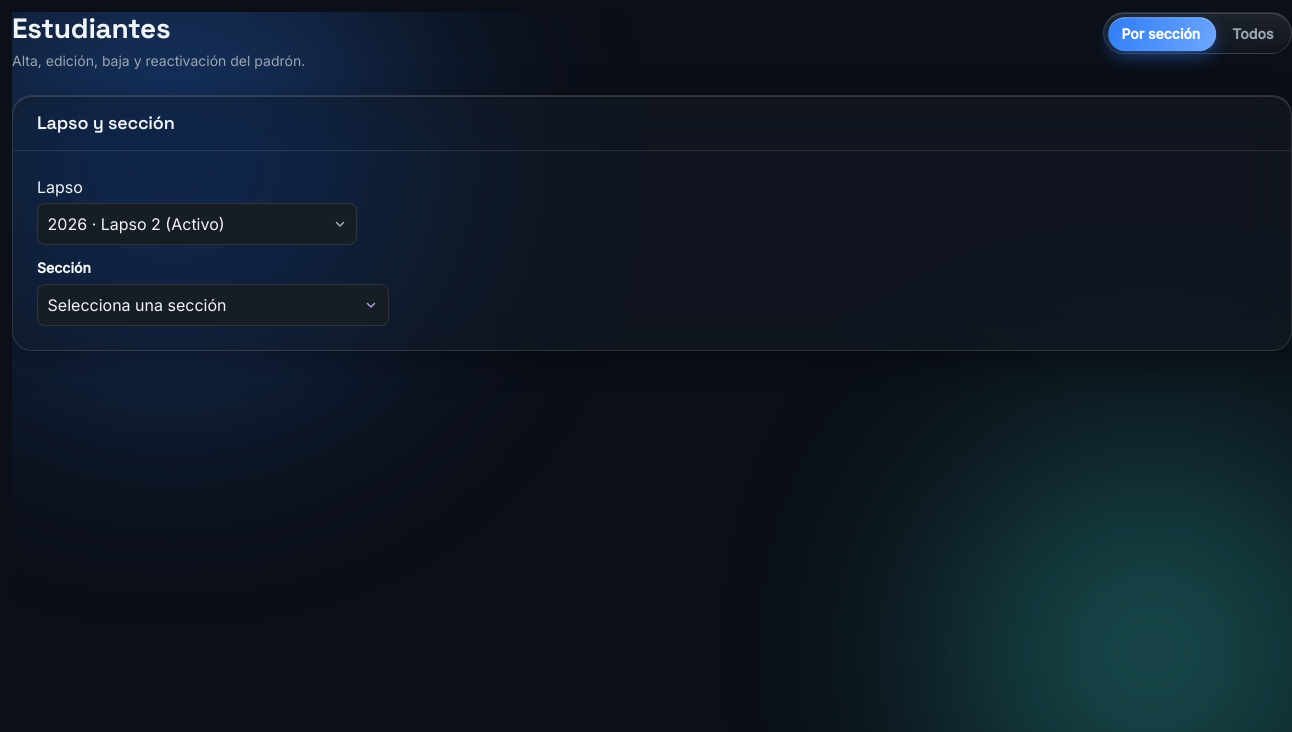
Test: EstudiantesPage › distingue el vacío del buscador del de padrón vacío
Click the button "Todos": coordinates (1253, 33) x1=1218 y1=16 x2=1288 y2=50
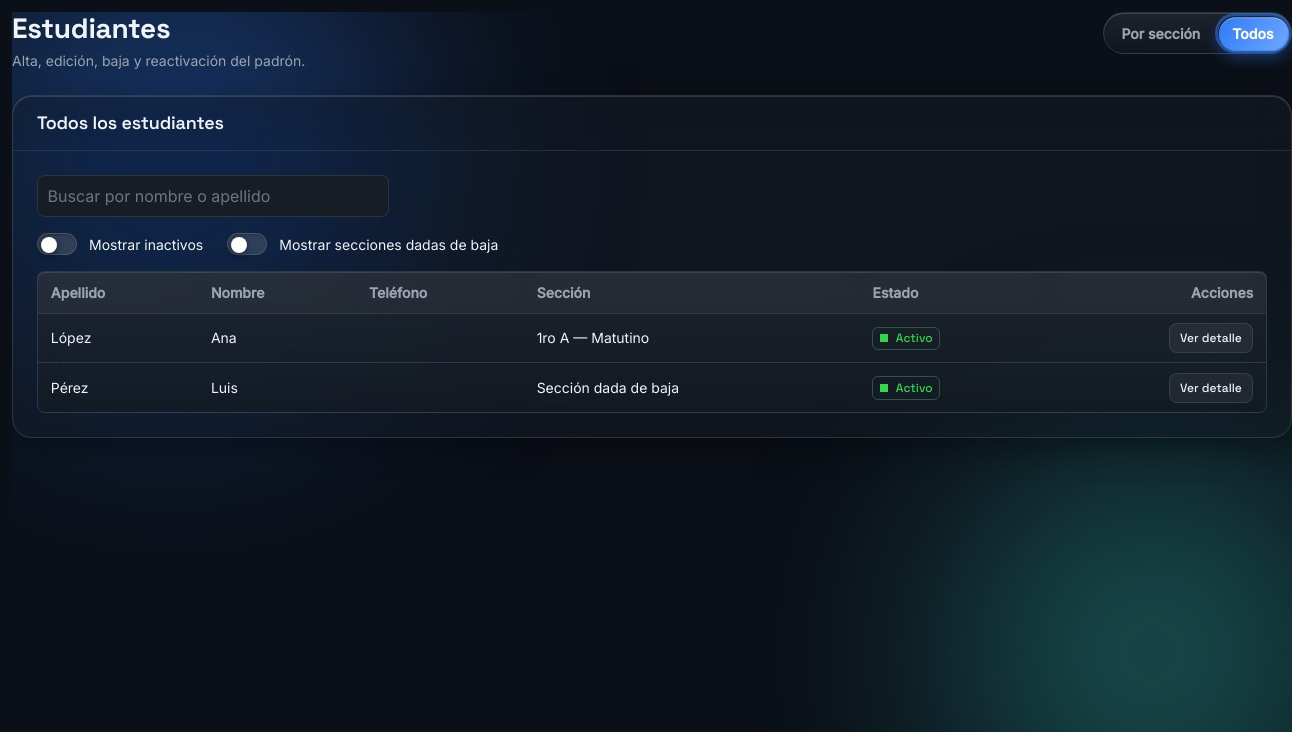
In the search field named "buscar-estudiante": coordinates (213, 196) x1=37 y1=175 x2=389 y2=217, type "zzz"
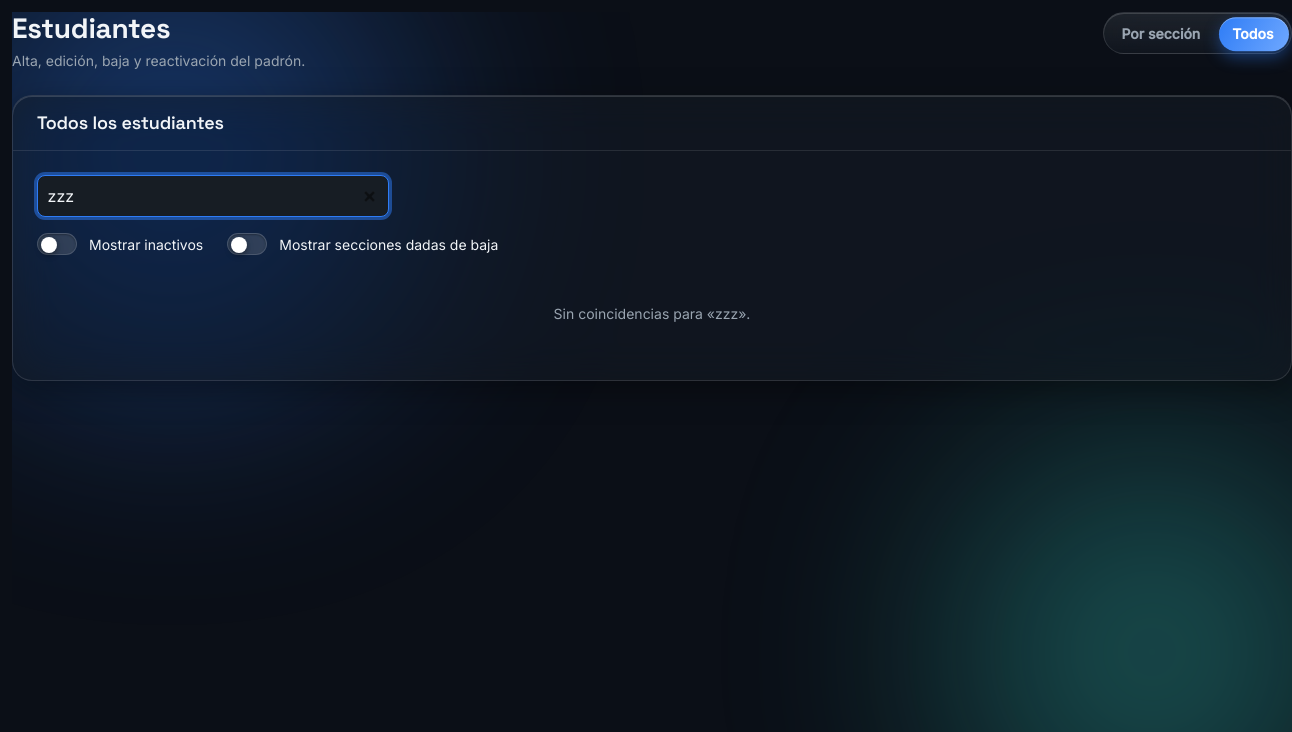
Result: the text "Sin coincidencias para «zzz»." is shown at x1=554 y1=303 x2=750 y2=324
